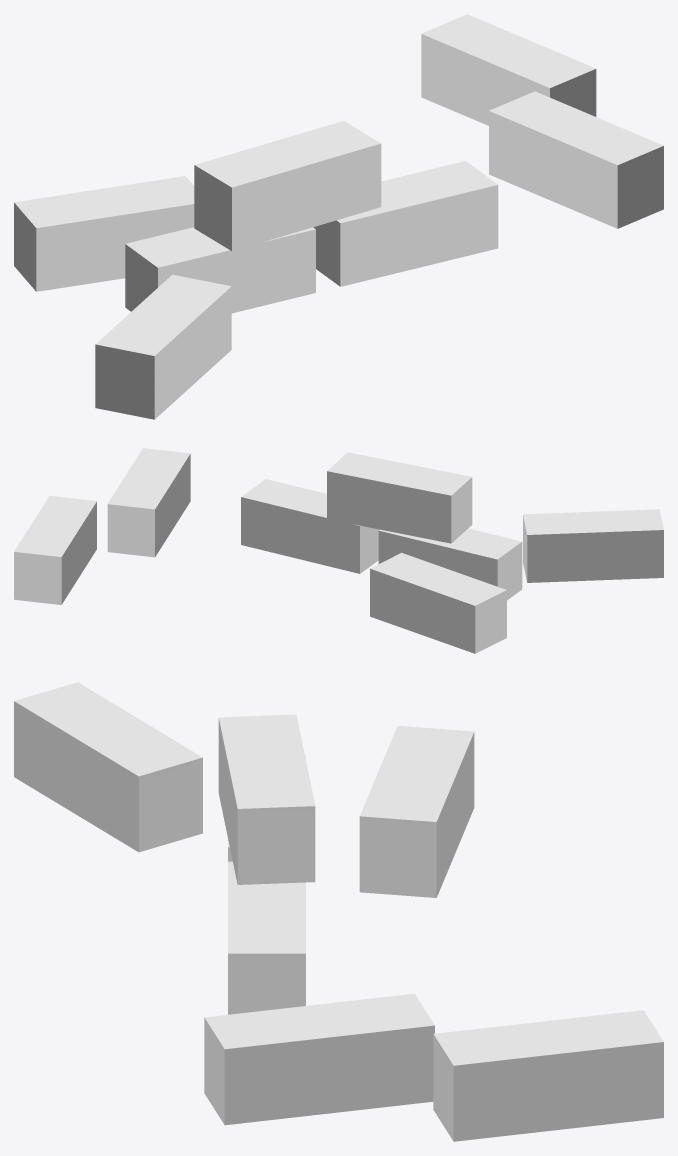
Rendered from Container1_Closed1.fbx.
3 renders of one model, top to bottom at view 1: azimuth 30°, elevation 25°; view 2: azimuth 150°, elevation 25°; view 3: azimuth 270°, elevation 25°, orthographic. The views are drawn at different scales.
Parts seen in each view (by area): view 1: Container1_Closed1; view 2: Container1_Closed1; view 3: Container1_Closed1.
Boxes of the visible parts, x1,y1,x2,y2 form: Container1_Closed1: (14,14,663,419); Container1_Closed1: (14,448,663,653); Container1_Closed1: (14,682,663,1141).
Bounding box in the file's own units: 2793 × 2000 × 525.
